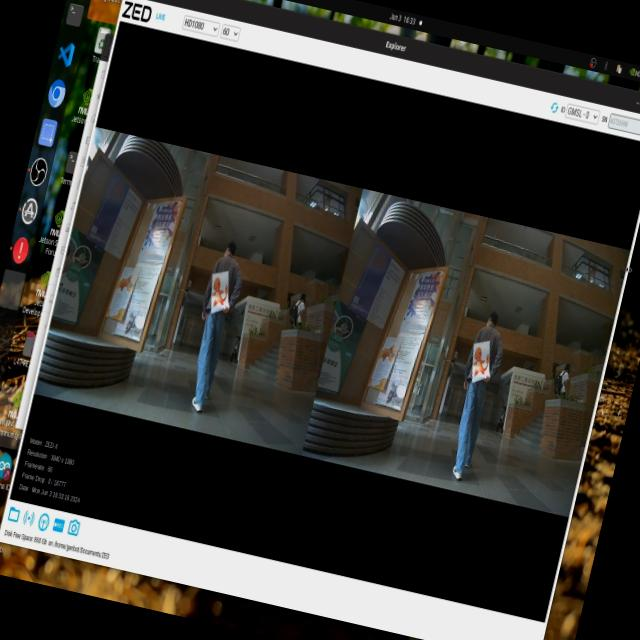red: (206, 266, 238, 316), (464, 343, 494, 384)
